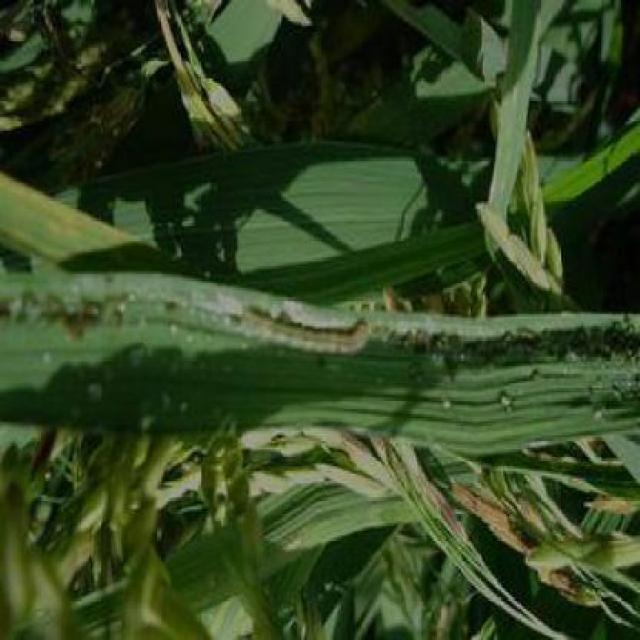leaf-folder: (230, 280, 385, 394)
